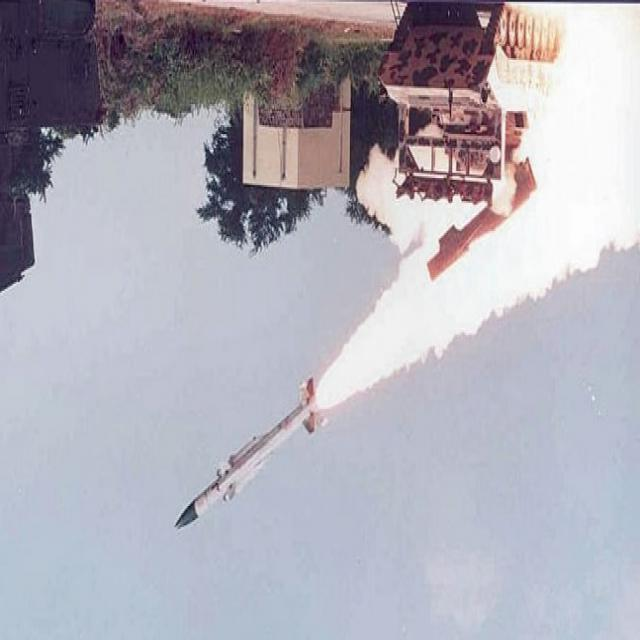missile: (174, 374, 344, 532)
